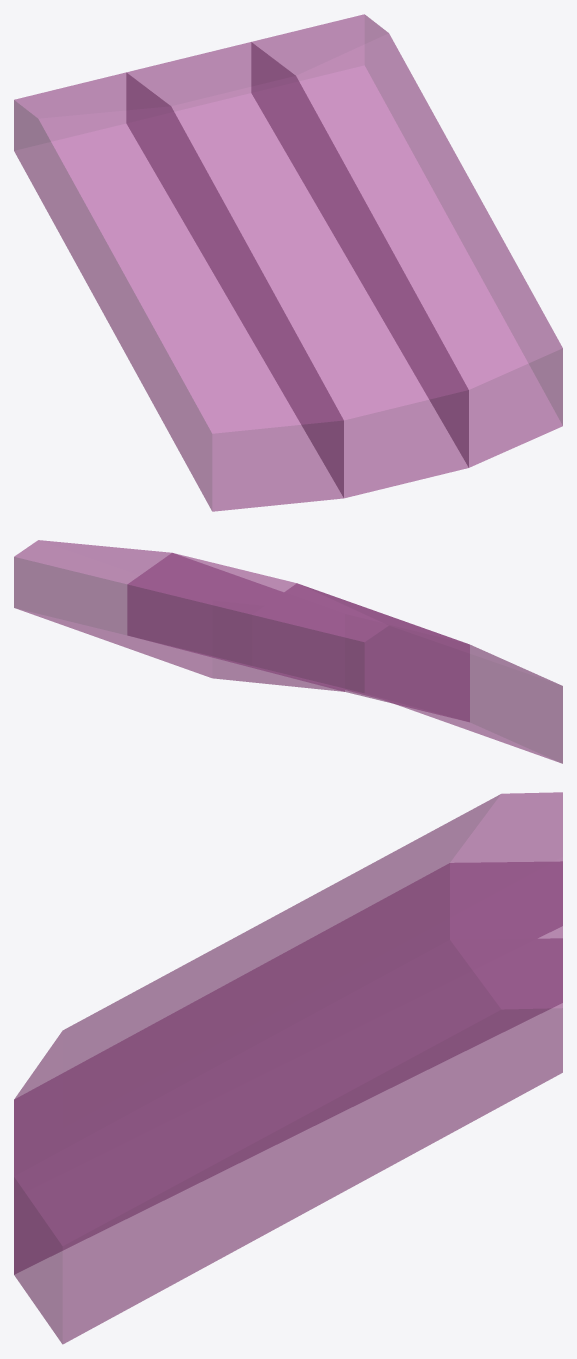
Rendered from SM_Bld_Stairs_02_Collision.fbx.
3 renders of one model, top to bottom at view 1: azimuth 30°, elevation 25°; view 2: azimuth 150°, elevation 25°; view 3: azimuth 270°, elevation 25°, orthographic. The views are drawn at different scales.
Visible parts, largest first — view 1: SM_Bld_Stairs_02_Collision; view 2: SM_Bld_Stairs_02_Collision; view 3: SM_Bld_Stairs_02_Collision.
Part boxes in pixels (left/top/right/bottom): SM_Bld_Stairs_02_Collision: left=14, top=14, right=562, bottom=511; SM_Bld_Stairs_02_Collision: left=14, top=540, right=562, bottom=763; SM_Bld_Stairs_02_Collision: left=14, top=792, right=562, bottom=1344.
Bounding box in the file's own units: 259 × 188 × 278.
